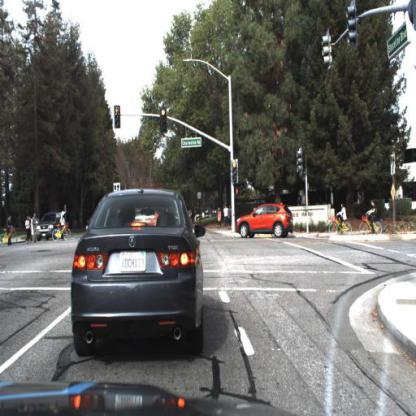biker: (359, 199, 386, 238), (329, 201, 354, 241), (2, 212, 20, 249), (52, 212, 71, 243)
car: (70, 187, 207, 358), (234, 203, 297, 239), (38, 212, 65, 243)
pedestrian: (5, 214, 19, 249), (4, 215, 13, 246), (26, 213, 34, 245), (214, 204, 223, 230), (223, 203, 231, 232), (34, 213, 39, 243), (217, 208, 223, 231)
trafficLight-Red: (231, 158, 240, 184), (159, 106, 167, 135)
trafficLight-RedLeft: (114, 103, 122, 129)
